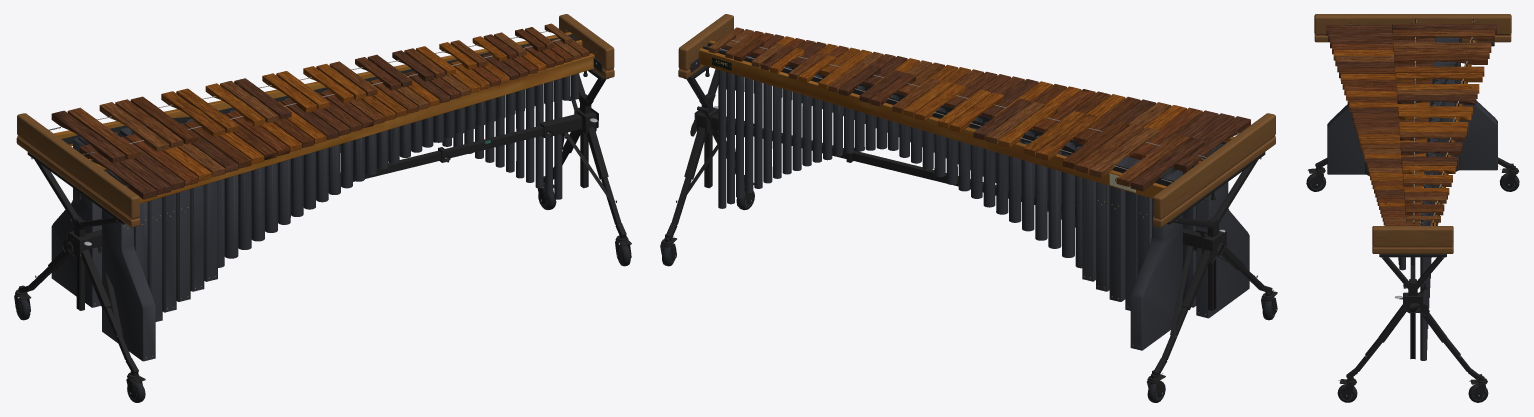
File: marimba.glb
3 renders of one model, left to right at view 1: azimuth 30°, elevation 25°; view 2: azimuth 150°, elevation 25°; view 3: azimuth 270°, elevation 25°, orthographic. The views are drawn at different scales.
Visible parts, largest first — view 1: Web Black steel frame, Web Baked original rosewood and oak; view 2: Web Black steel frame, Web Baked original rosewood and oak; view 3: Web Baked original rosewood and oak, Web Black steel frame.
Part boxes in pixels (bbox=[...]): Web Black steel frame: bbox=[14, 30, 631, 402]; Web Baked original rosewood and oak: bbox=[16, 14, 614, 227]; Web Black steel frame: bbox=[660, 30, 1277, 402]; Web Baked original rosewood and oak: bbox=[678, 14, 1275, 227]; Web Baked original rosewood and oak: bbox=[1314, 14, 1511, 253]; Web Black steel frame: bbox=[1306, 19, 1519, 402].
Size of the model in its own units: 2.73 by 1.03 by 1.12.
Materials: 3 (3 with a texture image).
